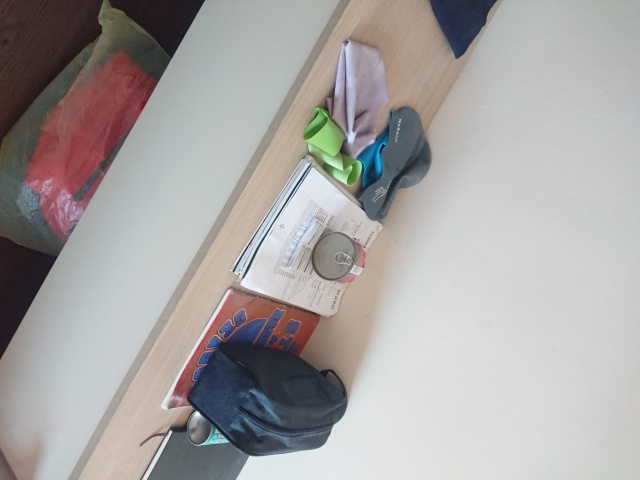Giana Tuna Salad Mexico 185g: (309, 229, 367, 286)
